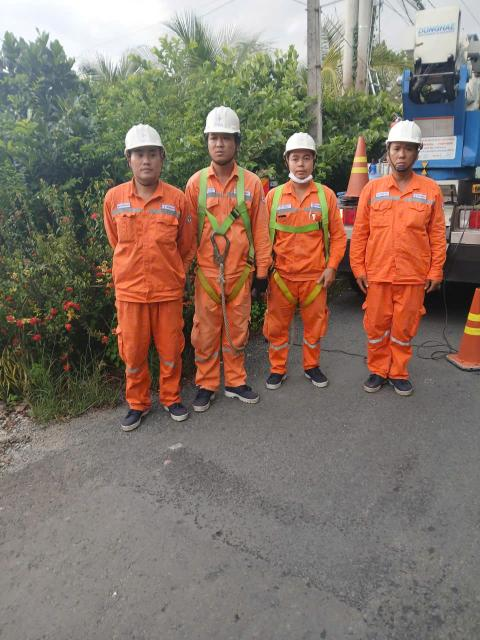harness: (266, 186, 340, 309), (196, 171, 257, 308)
helmet: (120, 120, 169, 158), (202, 103, 246, 142), (386, 114, 430, 153), (277, 127, 323, 161)
shoes: (118, 391, 155, 438), (216, 383, 270, 412), (156, 399, 194, 428), (386, 366, 416, 400), (298, 364, 336, 390), (190, 380, 215, 418), (360, 366, 389, 396), (260, 364, 288, 392)
